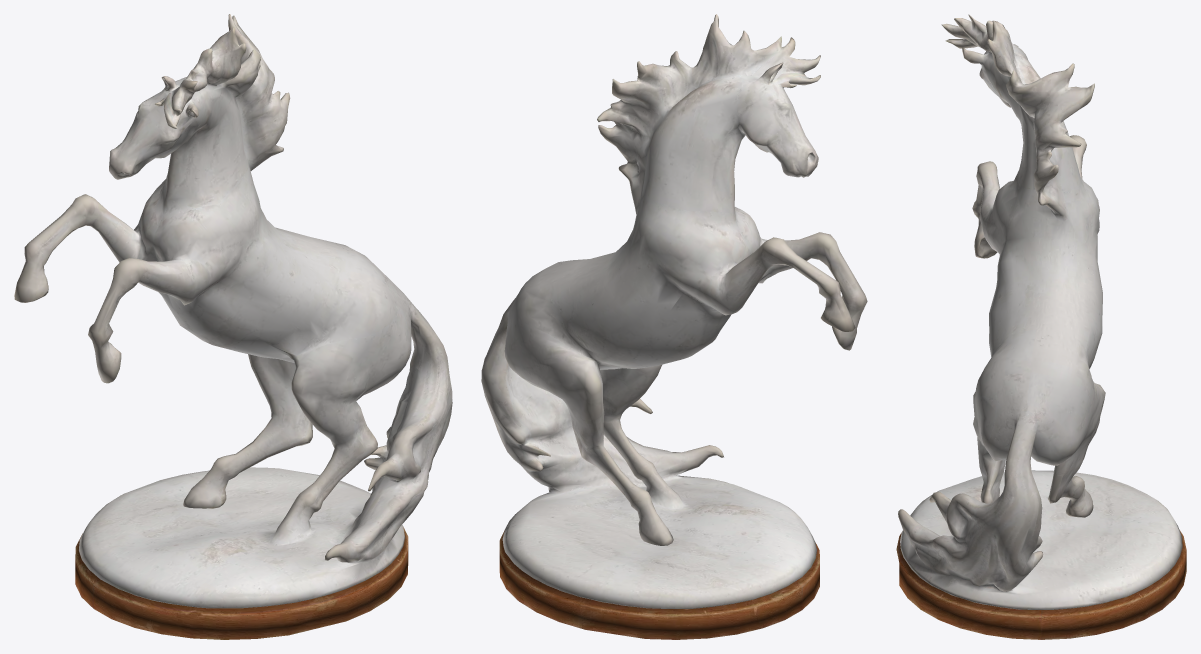
File: horse_statue_01.glb
3 views of the same model, side by side, from view 1: azimuth 30°, elevation 25°; view 2: azimuth 150°, elevation 25°; view 3: azimuth 270°, elevation 25° (orthographic). The views are drawn at different scales.
Visible parts, largest first — view 1: horse_statue_01; view 2: horse_statue_01; view 3: horse_statue_01.
Boxes of the visible parts, x1,y1,x2,y2 form: horse_statue_01: (14,14,452,639); horse_statue_01: (481,14,867,639); horse_statue_01: (896,14,1186,639).
Bounding box in the file's own units: 0.1638 × 0.22 × 0.1078.
1 material, 1 textured.
